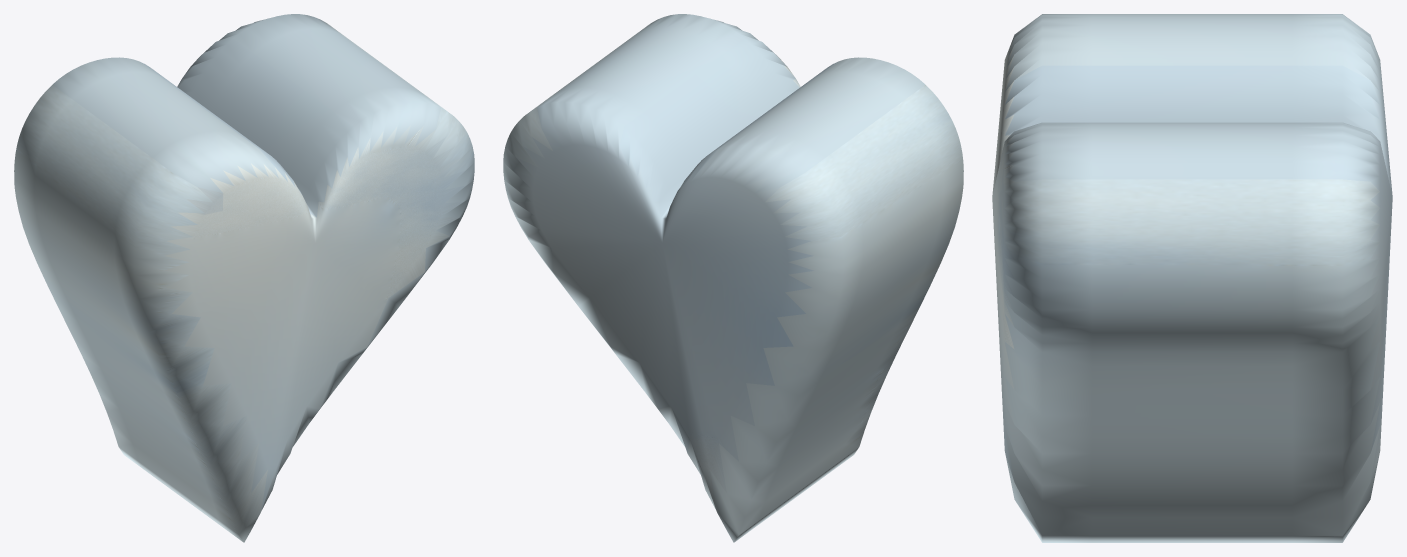
File: heartBshape.glb
3 views of the same model, side by side, from view 1: azimuth 30°, elevation 25°; view 2: azimuth 150°, elevation 25°; view 3: azimuth 270°, elevation 25° (orthographic). The views are drawn at different scales.
Size of the model in its own units: 16.63 by 18.73 by 13.56.
1 material, 1 textured.
